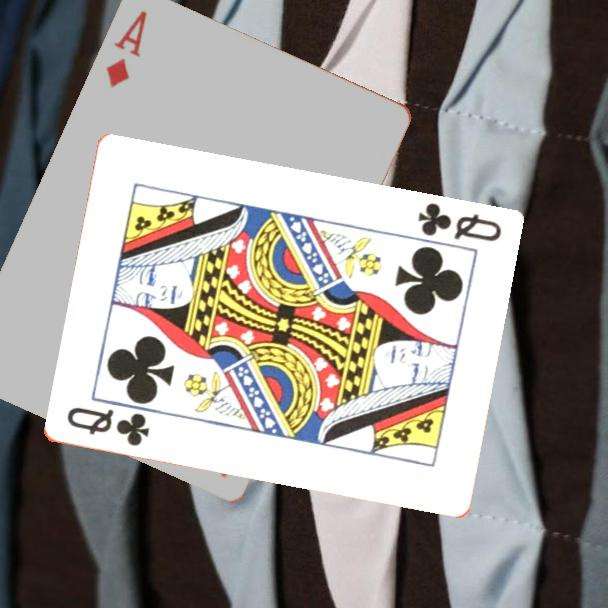c12: (63, 403, 152, 450), (414, 199, 504, 245)
d01: (102, 6, 150, 91)
